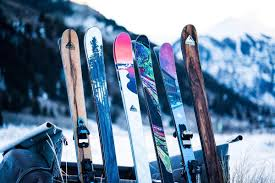skis: (180, 23, 221, 183), (154, 44, 200, 183), (131, 33, 173, 183), (82, 25, 121, 183), (113, 31, 152, 183), (56, 29, 94, 183)
